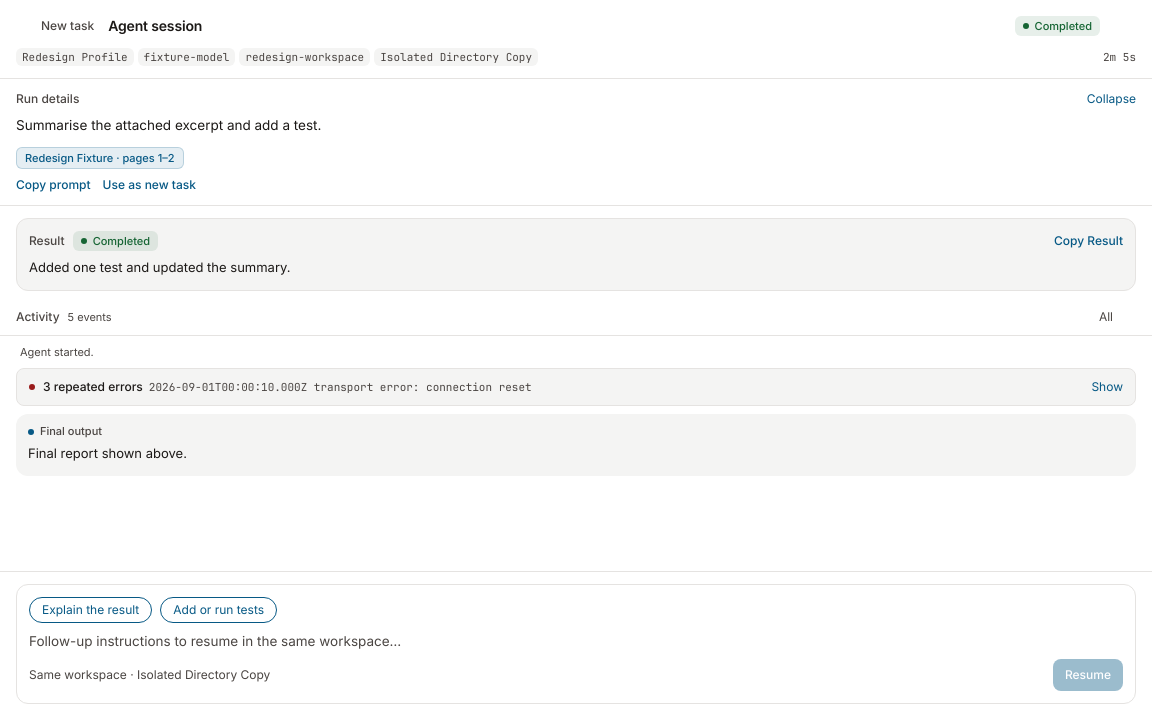
Test: 6b — run view › folds a run of equivalent transport errors into one expandable group with its count
Expected: the element with test id "agent-activity-list" is shown, [16,344,1136,476]
Step 1. Click the button "3 repeated errors" → (93, 387), box [29,379,1123,395]
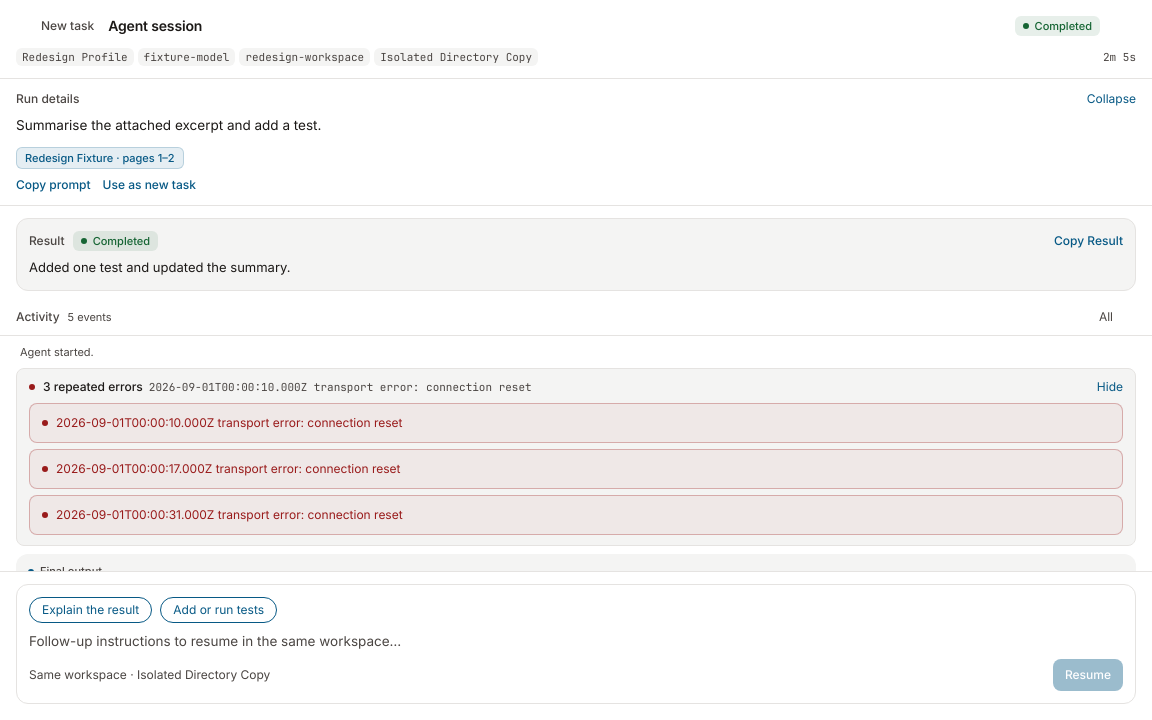
Expected: the button "3 repeated errors" is expanded, [29,379,1123,395]
Expected: the number of messages is 3, [29,403,1123,443]; [29,449,1123,489]; [29,495,1123,535]
